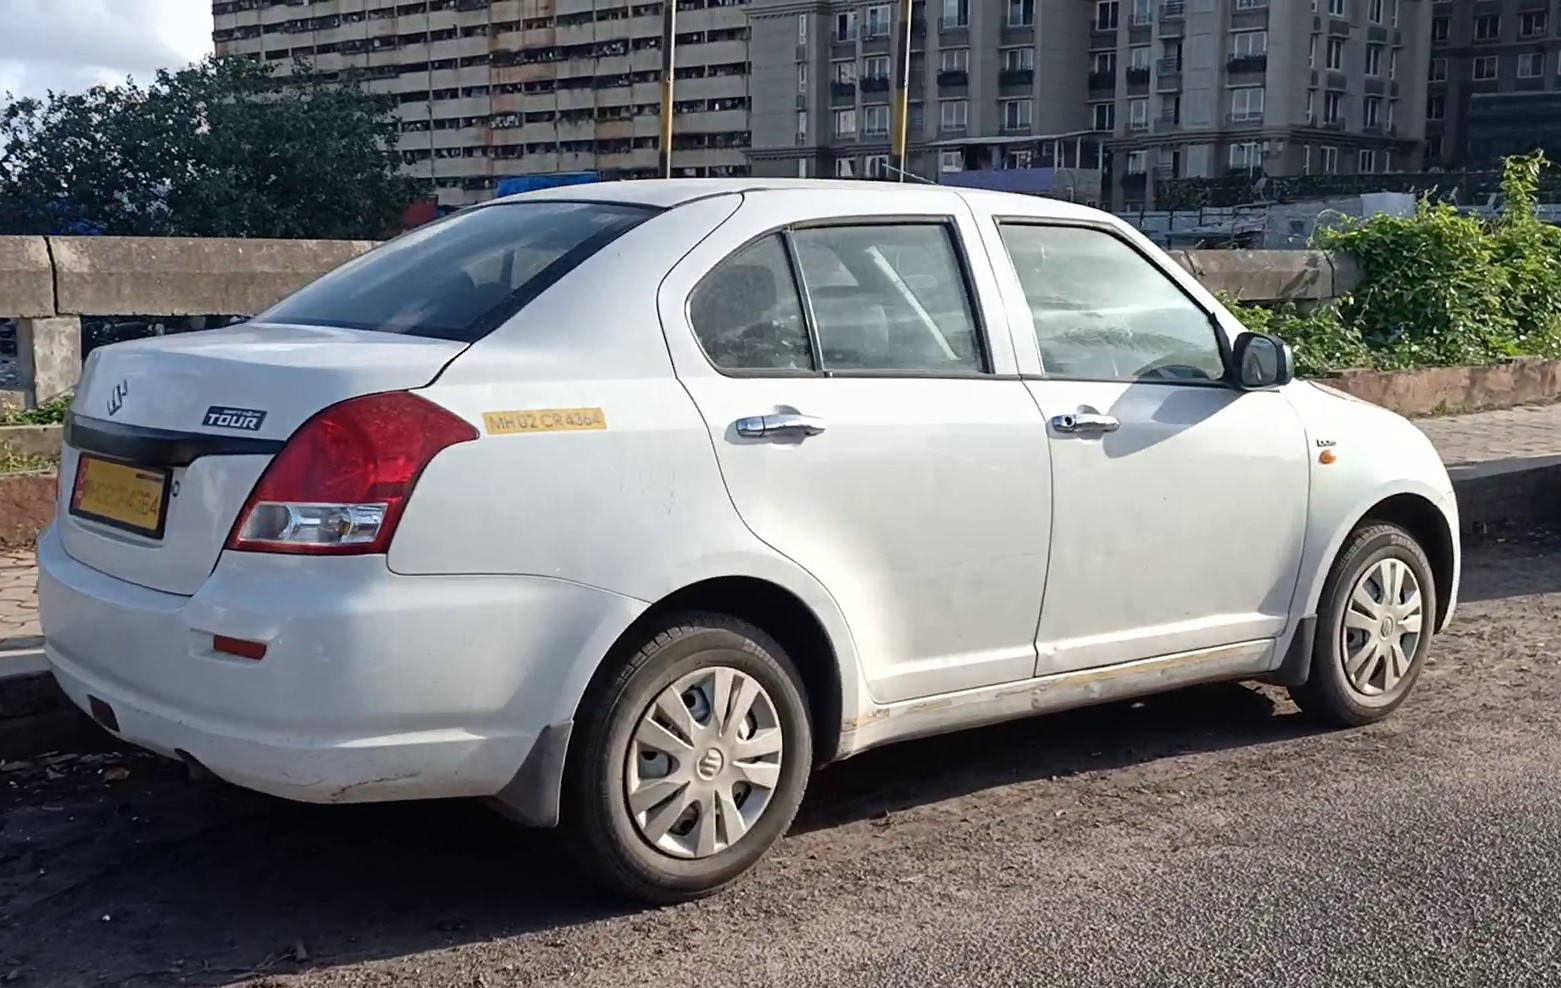MH02CR4364: (68, 453, 167, 538)
